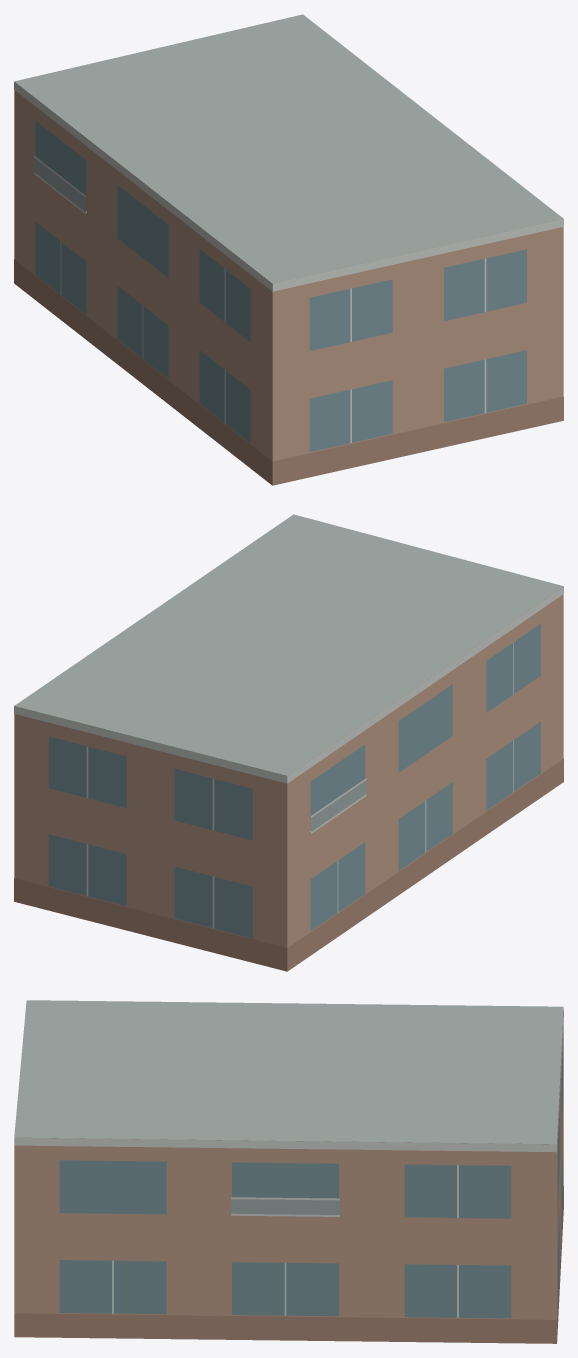
The model's file is survey-upis-32959787.glb.
3 views of the same model, one above another, from view 1: azimuth 30°, elevation 25°; view 2: azimuth 150°, elevation 25°; view 3: azimuth 270°, elevation 25° (orthographic). The views are drawn at different scales.
Visible parts, largest first — view 1: survey-upis-32959787.tmp; view 2: survey-upis-32959787.tmp; view 3: survey-upis-32959787.tmp.
Part boxes in pixels (left/top/right/bottom): survey-upis-32959787.tmp: left=14, top=14, right=563, bottom=485; survey-upis-32959787.tmp: left=14, top=514, right=563, bottom=971; survey-upis-32959787.tmp: left=14, top=1000, right=563, bottom=1343.
Size of the model in its own units: 9.46 by 6.1 by 15.24.
